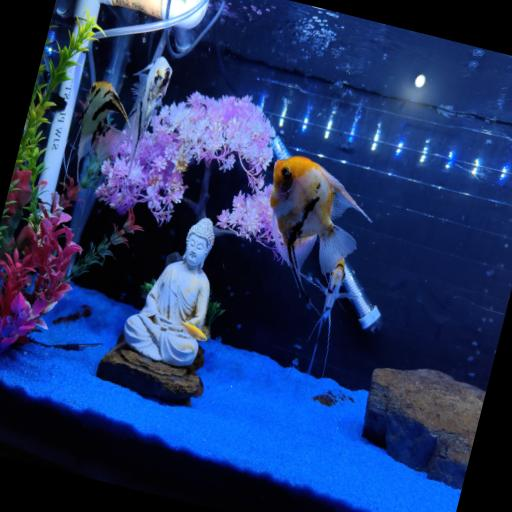Fish: (270, 156, 369, 304), (306, 260, 353, 377), (126, 57, 171, 167), (77, 81, 127, 167), (181, 322, 205, 341)
